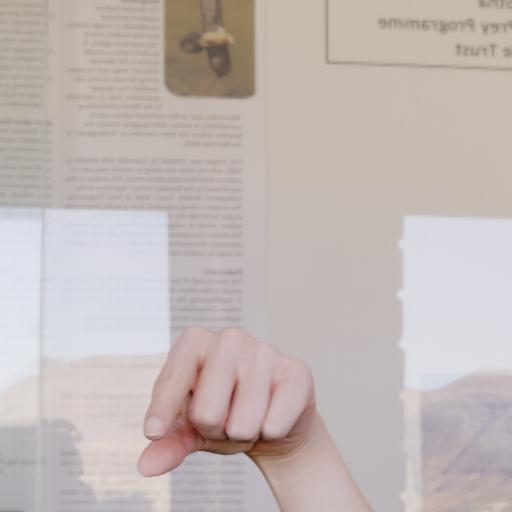Q: (130, 322, 327, 490)
